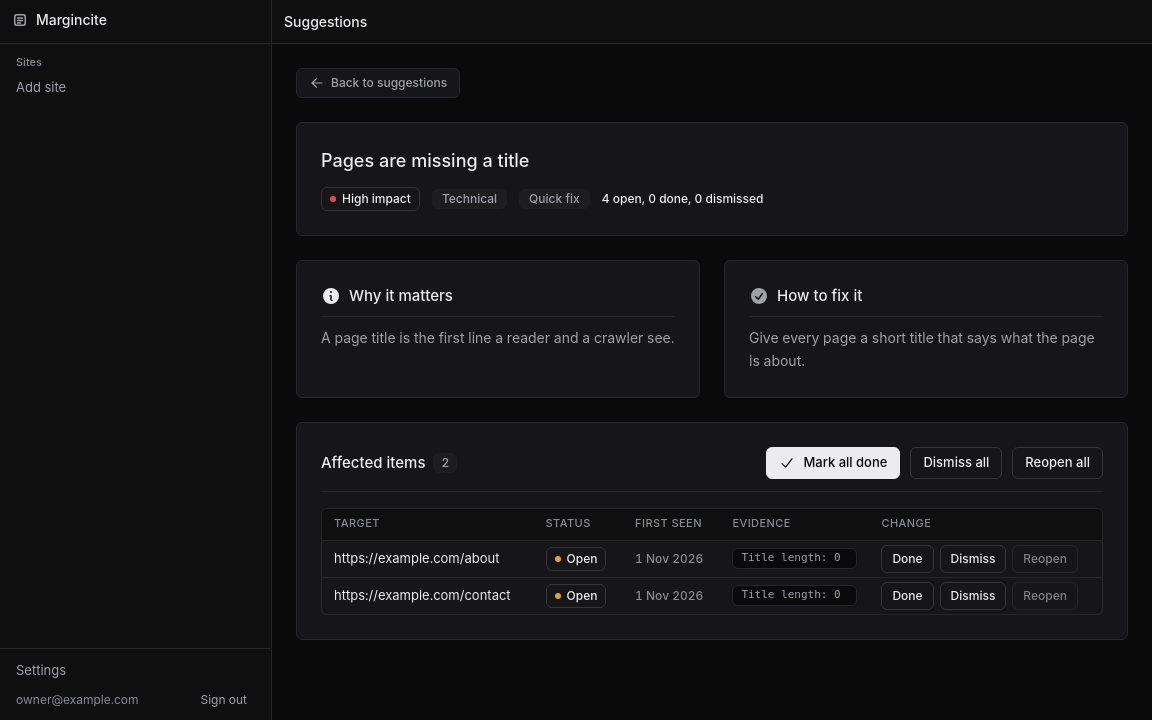
Scenario: marking_an_item_done_updates_its_row
Click the button "Done" in the row of "https://example.com/about": (908, 558) x1=881 y1=544 x2=934 y2=572
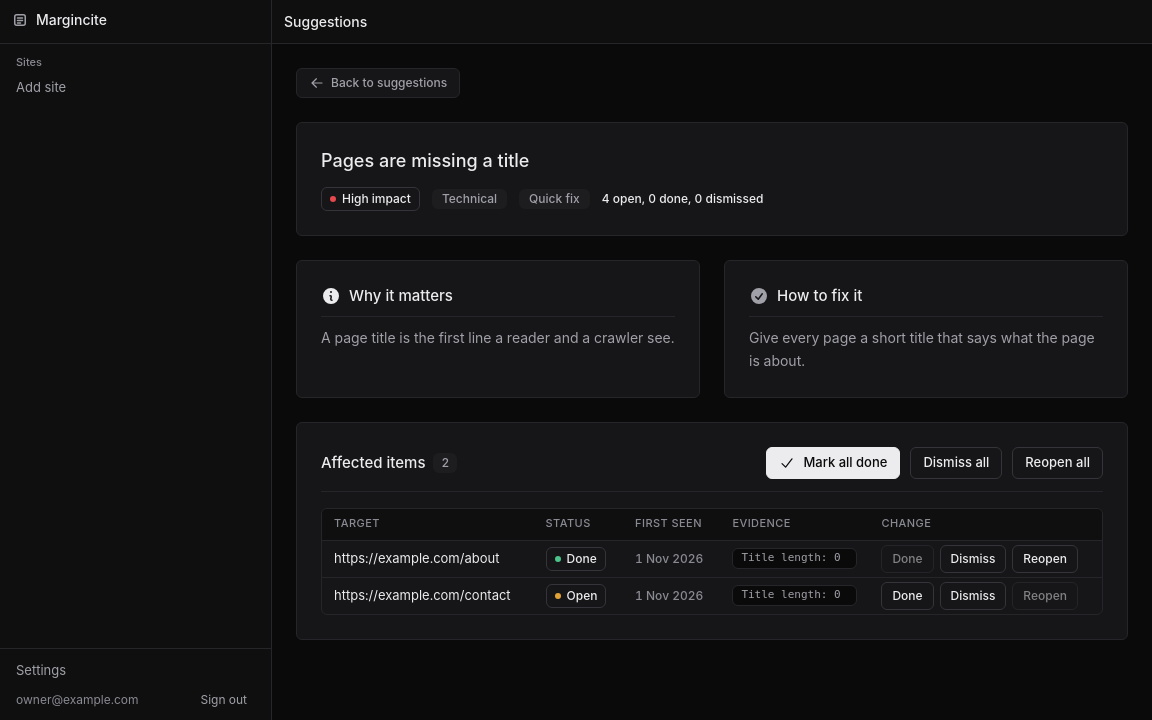
Expected: the element with class "tag" reads "Done", x1=566 y1=550 x2=597 y2=566
Expected: the button "Reopen" in the row of "https://example.com/about" is enabled, x1=1012 y1=544 x2=1078 y2=572
Expected: the button "Done" in the row of "https://example.com/about" is disabled, x1=881 y1=544 x2=934 y2=572
